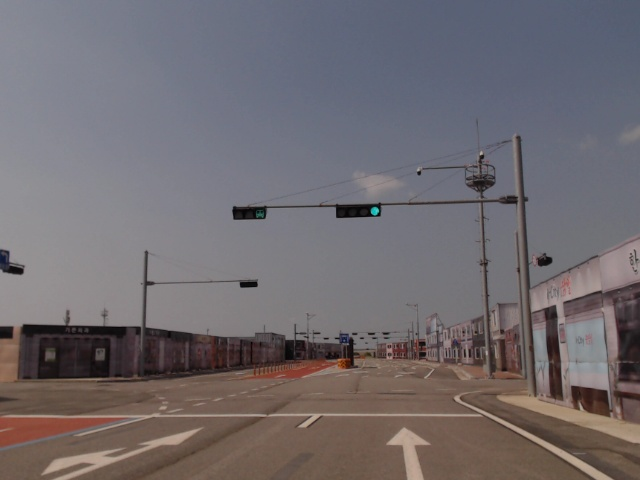straight_green_4: (337, 204, 381, 217)
